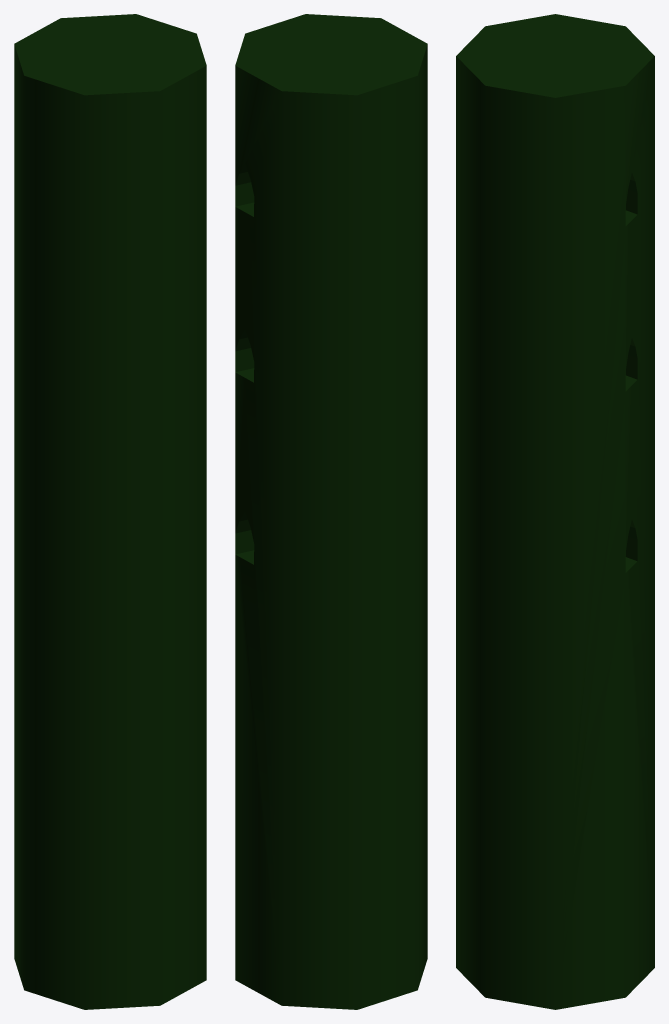
File: round-tower-5.fbx
The picture shows the model from 3 angles, left to right: view 1: azimuth 30°, elevation 25°; view 2: azimuth 150°, elevation 25°; view 3: azimuth 270°, elevation 25°; orthographic projection.
Visible parts, largest first — view 1: round-tower-5; view 2: round-tower-5; view 3: round-tower-5.
Boxes of the visible parts, <box> form: round-tower-5: <box>14,14,206,1009</box>; round-tower-5: <box>235,14,427,1009</box>; round-tower-5: <box>456,14,654,1009</box>.
Size of the model in its own units: 2.2 by 11.14 by 2.2.
